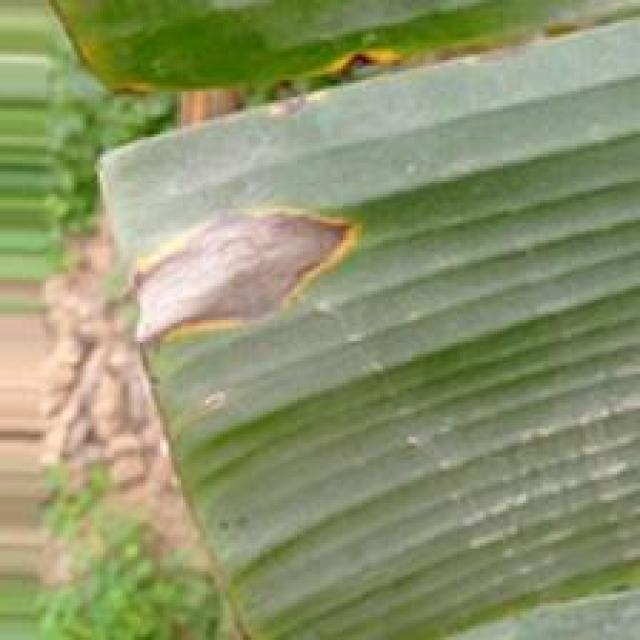Bacterial_spot: (105, 194, 371, 355), (170, 363, 247, 444), (309, 28, 423, 79), (96, 82, 163, 100)
